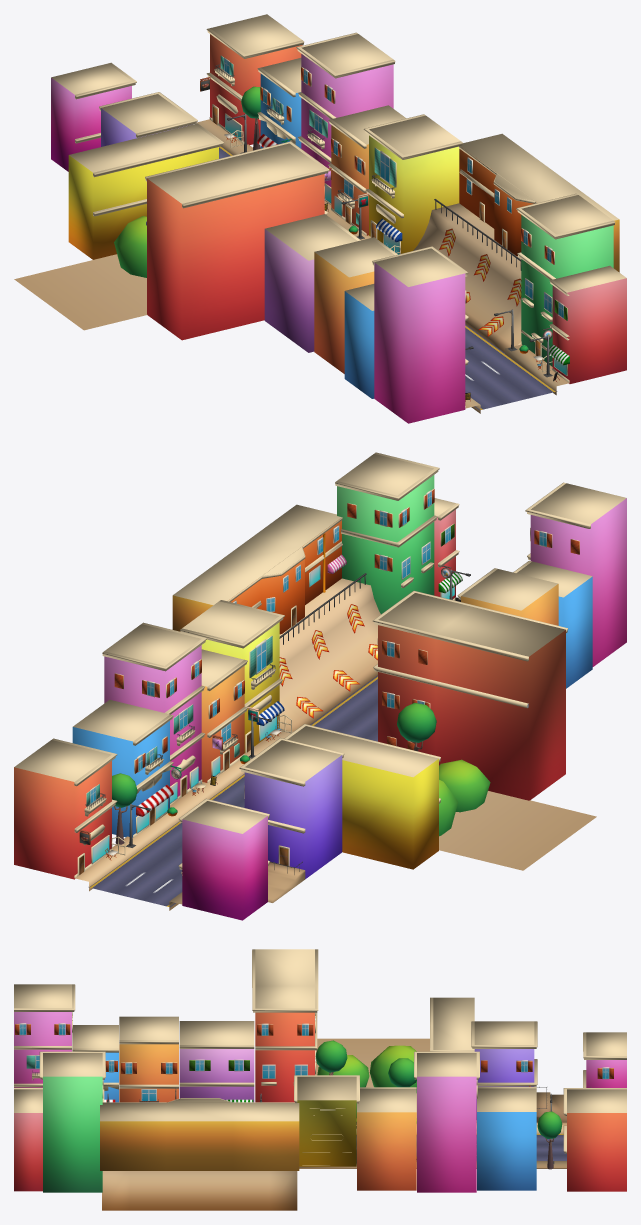
File: City.fbx
3 views of the same model, one above another, from view 1: azimuth 30°, elevation 25°; view 2: azimuth 150°, elevation 25°; view 3: azimuth 270°, elevation 25° (orthographic). The views are drawn at different scales.
Visible parts, largest first — view 1: city; view 2: city; view 3: city.
Part boxes in pixels (x1,y1,x2,y2): city: (14,14,626,423); city: (14,452,626,920); city: (14,949,626,1210).
Bounding box in the file's own units: 1581 × 532 × 2407.
